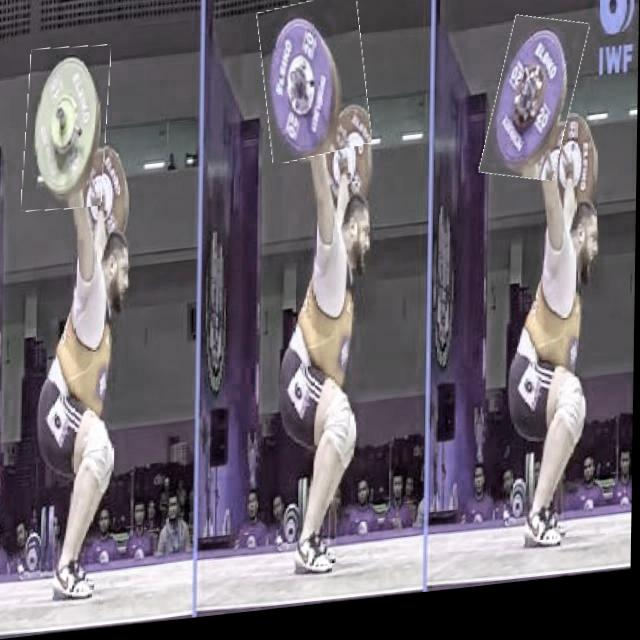barbell: (260, 1, 370, 171), (489, 25, 582, 197), (25, 45, 111, 216)
